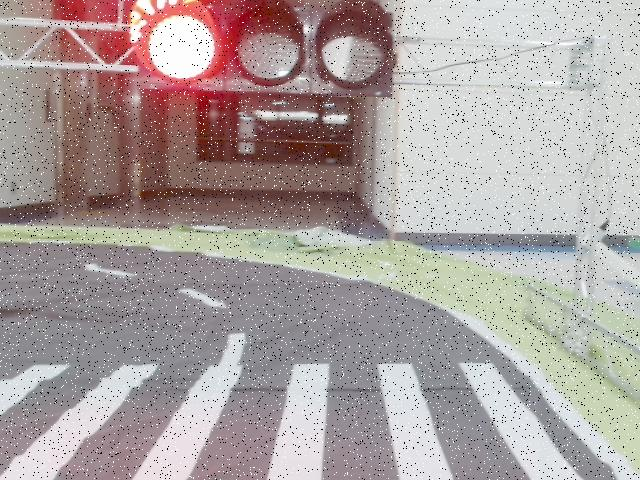crosswalk: (0, 359, 603, 479)
traffic light-red-: (131, 0, 394, 98)
